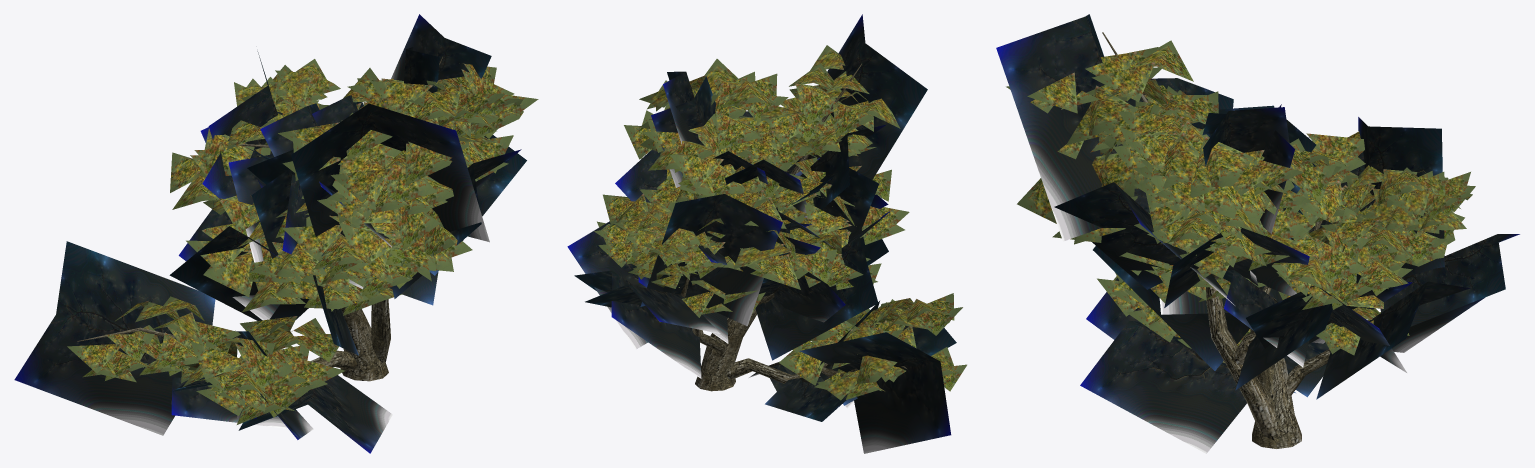
Rendered from oak_d_fall.fbx.
3 renders of one model, left to right at view 1: azimuth 30°, elevation 25°; view 2: azimuth 150°, elevation 25°; view 3: azimuth 270°, elevation 25°, orthographic. The views are drawn at different scales.
Parts seen in each view (by area): view 1: oak_fall_d; view 2: oak_fall_d; view 3: oak_fall_d.
Part boxes in pixels (box(x1,y1,x2,y2)): oak_fall_d: box(14, 14, 538, 453); oak_fall_d: box(567, 14, 966, 453); oak_fall_d: box(996, 14, 1519, 453).
Bounding box in the file's own units: 1418 × 1179 × 1380.
3 materials, 3 textured.
